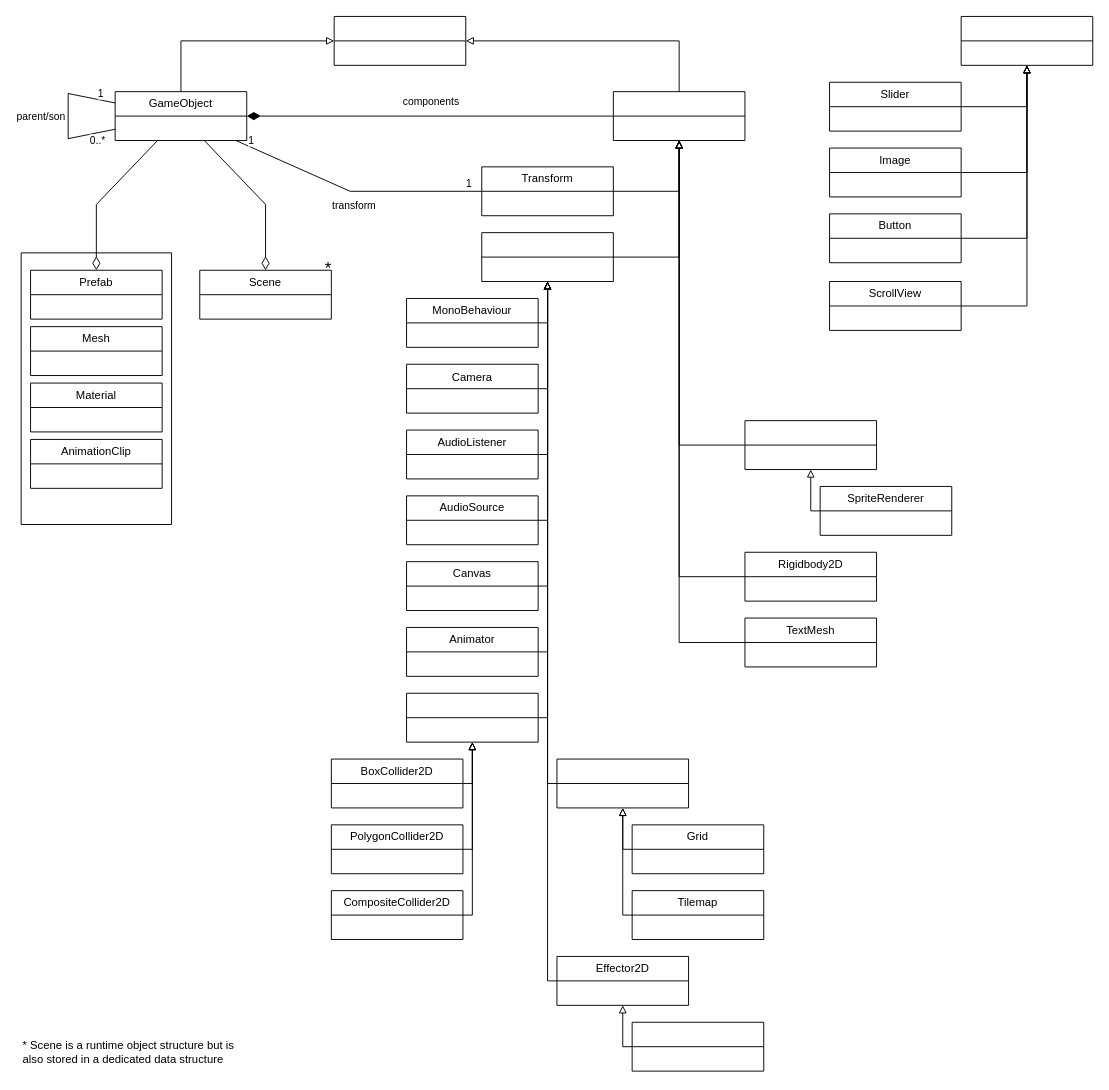
This 1109x1090 diagram has some shape labels left out. The shapes that lost their labels are listed below. From the top down, each one's box as (x1, y1, x2, y2) in pixels, then its label:
(333, 16, 466, 65): Object
(960, 16, 1093, 65): UIElements
(612, 91, 745, 141): Component
(481, 232, 613, 282): Behaviour
(20, 252, 172, 525): Serialized Data Types
(744, 420, 877, 470): Renderer
(406, 692, 538, 742): Collider2D
(556, 758, 689, 808): GridLayout
(631, 1021, 764, 1071): PlatformEffector2D
